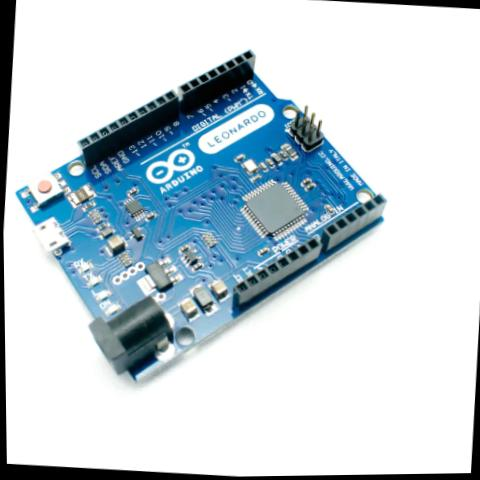Arduino-Leonardo: (0, 23, 403, 413)
